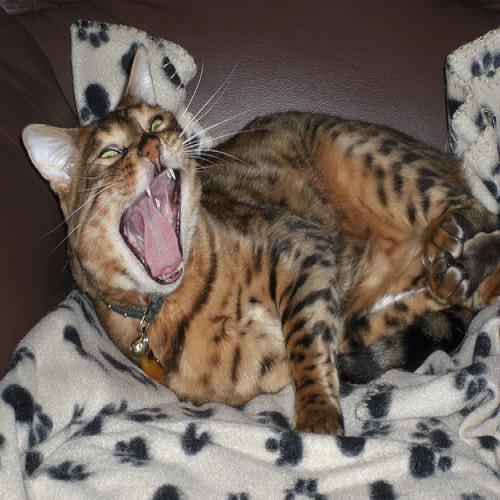cat-face: (21, 45, 209, 305)
